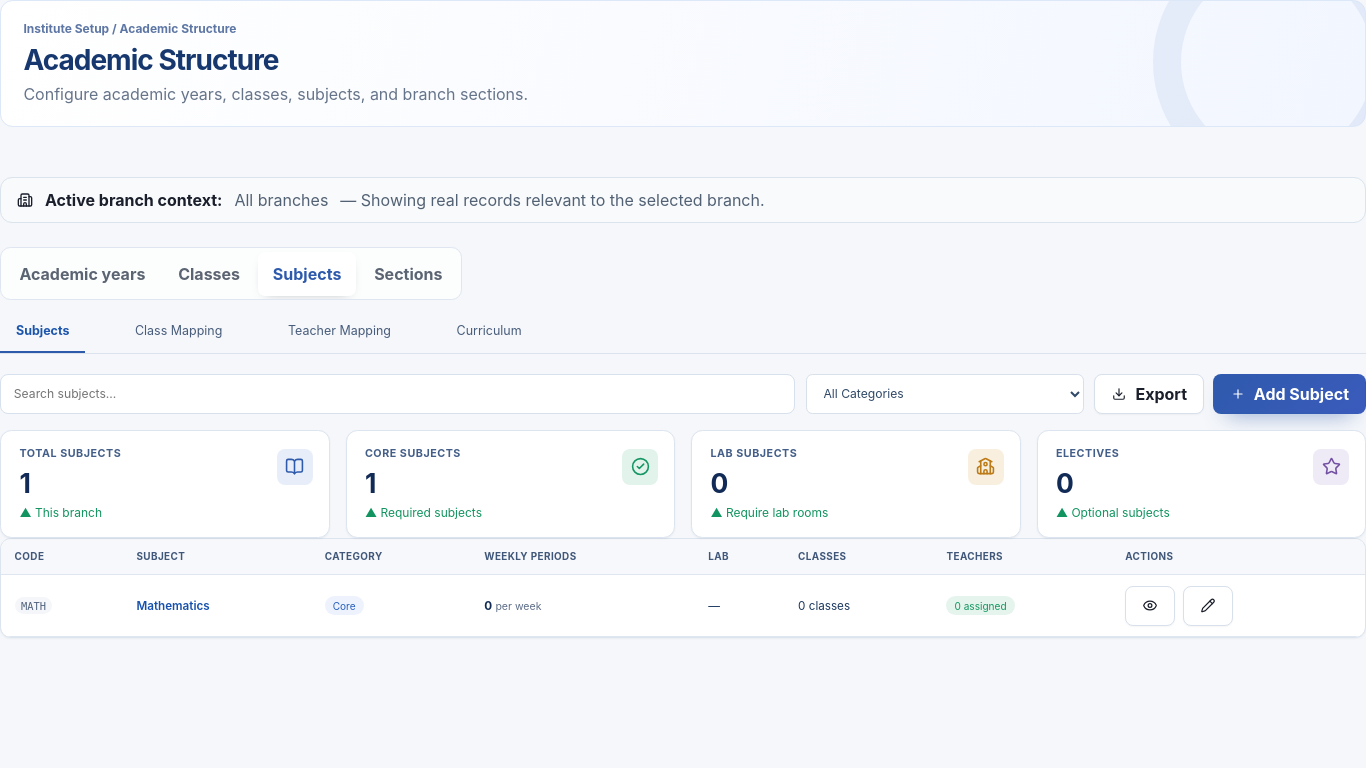
Scenario: AcademicStructurePage › creates a subject with the serializer field names and refreshes the list
Expected: the text "Mathematics" is shown, x1=136 y1=598 x2=210 y2=612
Step 1. Click the button "Add Subject" → [1289, 394], box x1=1213 y1=374 x2=1365 y2=414
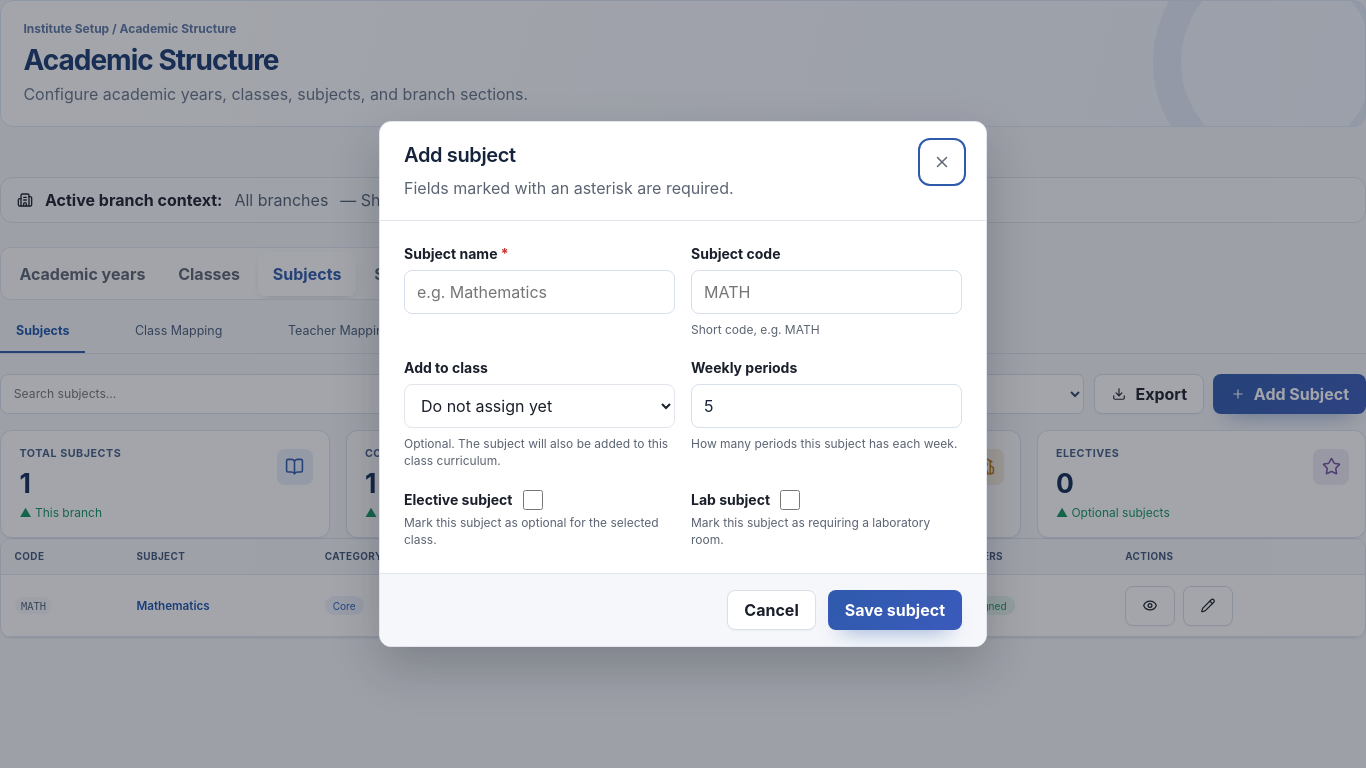
Step 2. Type "Physics" into the field labelled "Subject name *" → [540, 292], box x1=404 y1=270 x2=675 y2=314
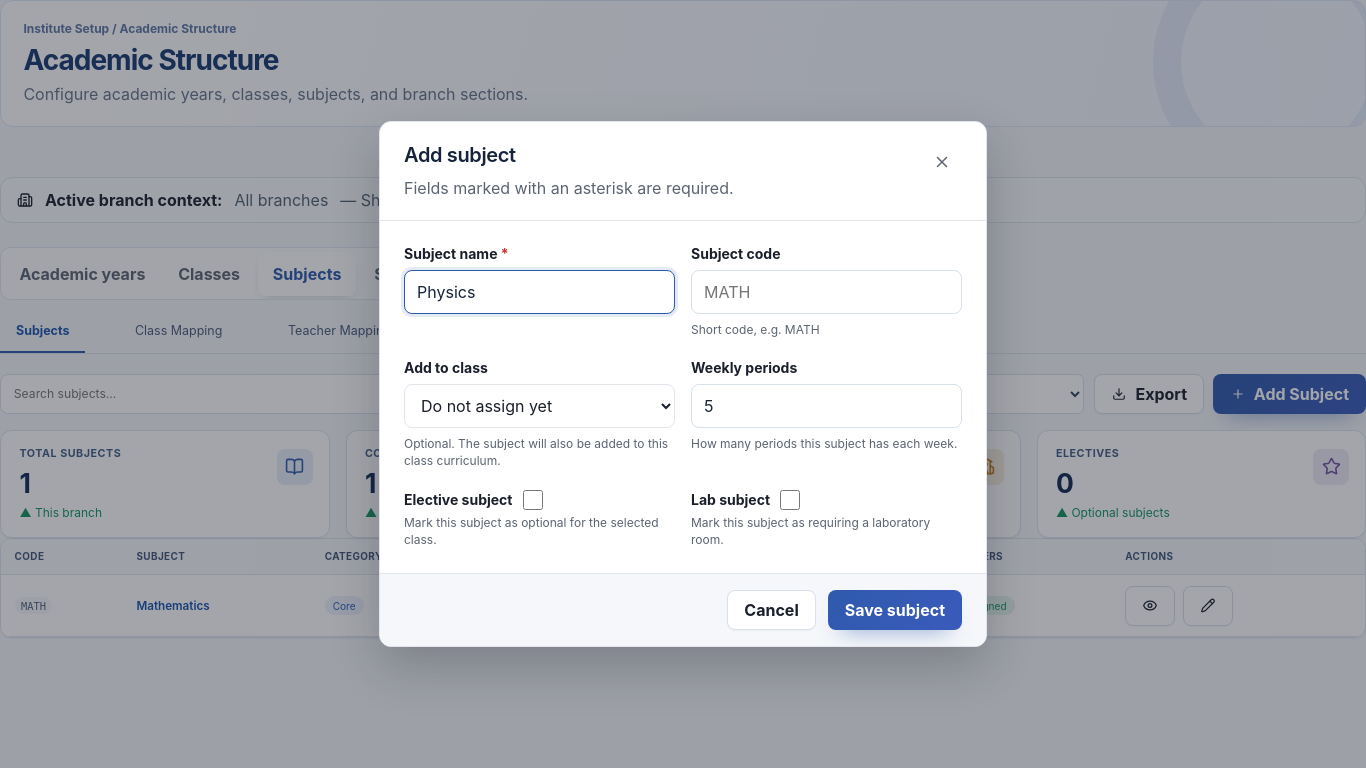
Step 3. Type "PHY" into the field labelled "Subject code" → [826, 292], box x1=691 y1=270 x2=962 y2=314
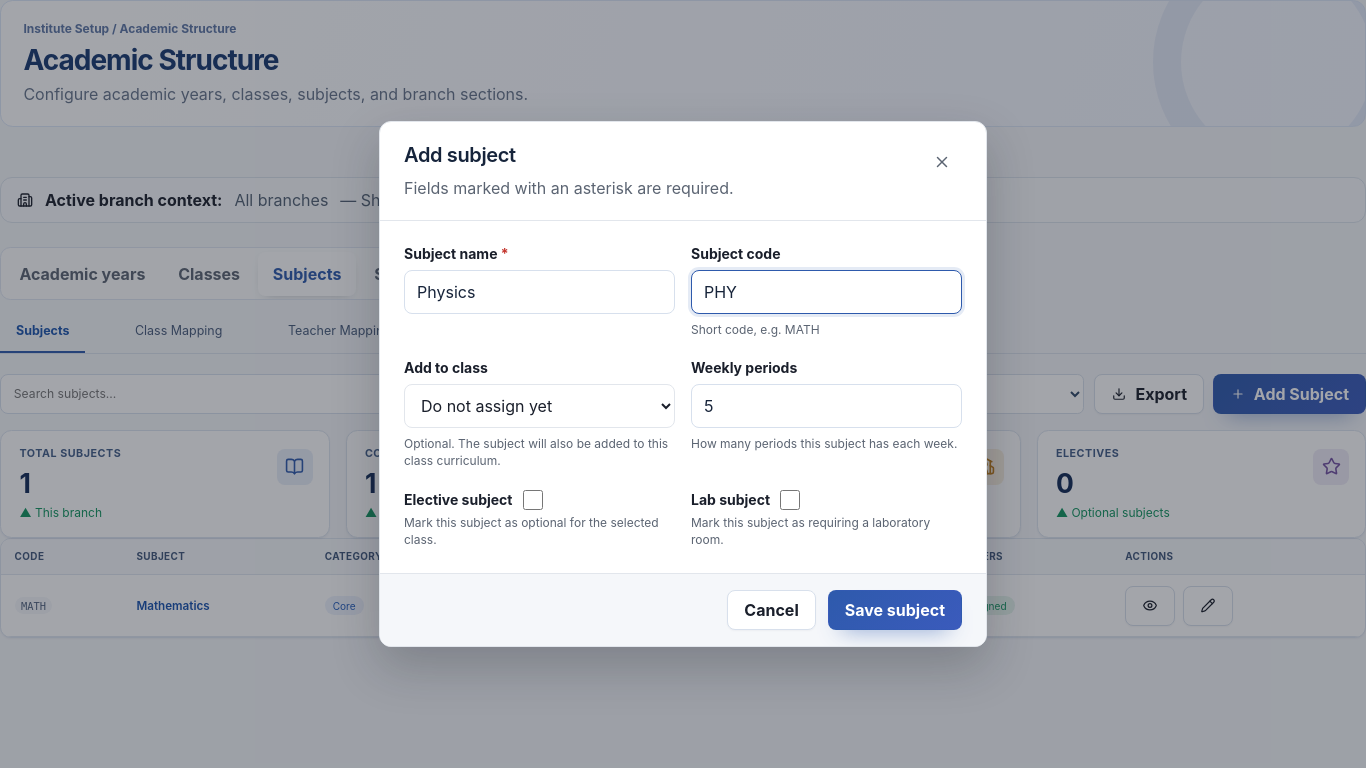
Step 4. Click the button "Save subject" → [895, 610], box x1=828 y1=590 x2=962 y2=630
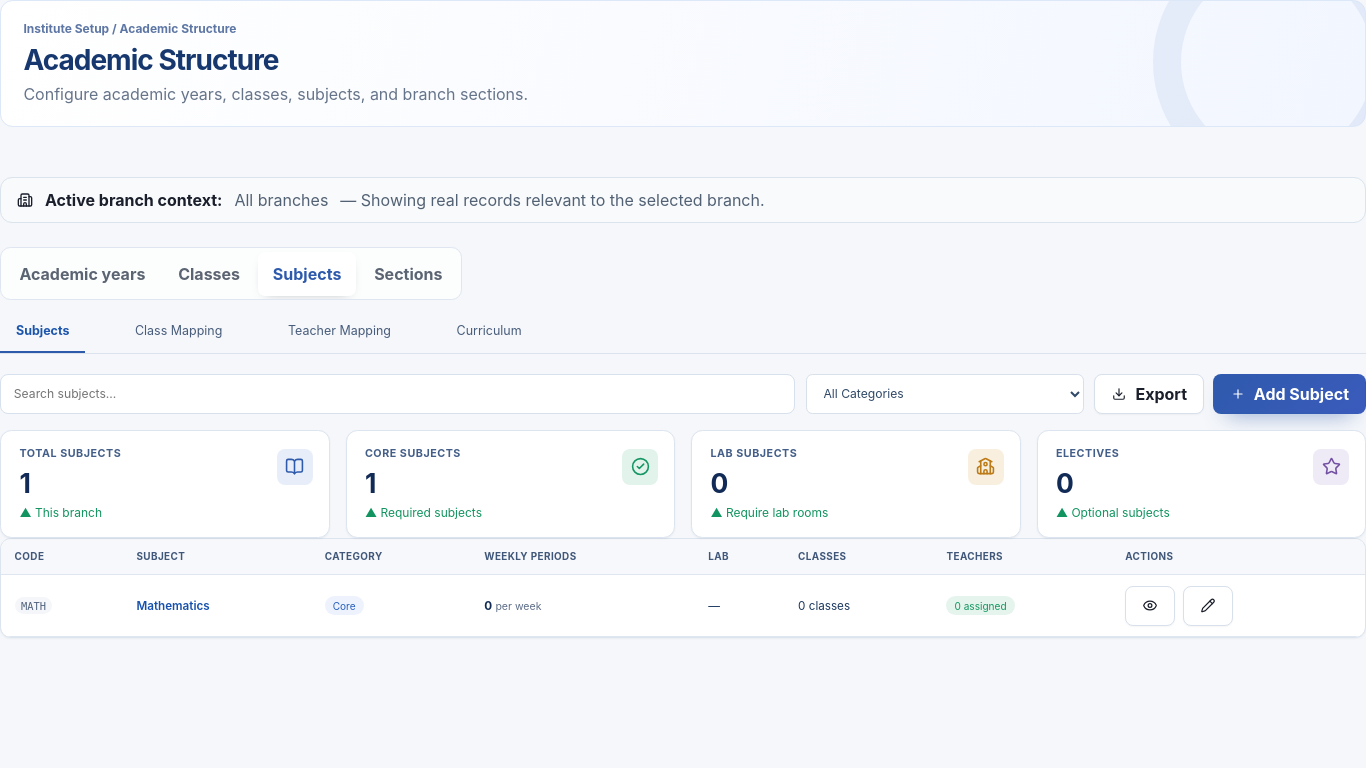
Expected: the dialog is gone
